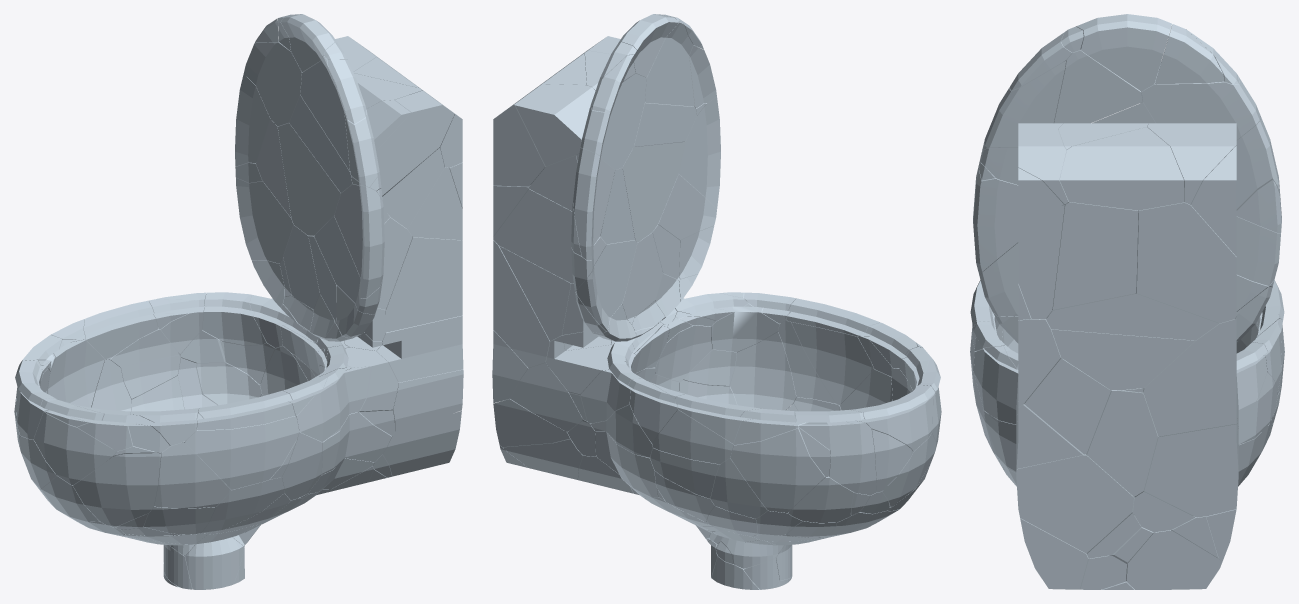
The model's file is Toilet.fbx.
3 views of the same model, side by side, from view 1: azimuth 30°, elevation 25°; view 2: azimuth 150°, elevation 25°; view 3: azimuth 270°, elevation 25° (orthographic). The views are drawn at different scales.
Visible parts, largest first — view 1: Sphere_cell.106, Sphere_cell.049, Sphere_cell.028, Sphere_cell.109, Sphere_cell.136, Sphere_cell.025, Sphere_cell.261, Sphere_cell.190, Sphere_cell.021, Sphere_cell.084, Sphere_cell.016, Sphere_cell.125 (+62 smaller); view 2: Sphere_cell.192, Sphere_cell.197, Sphere_cell.008, Sphere_cell.025, Sphere_cell.064, Sphere_cell.200, Sphere_cell.049, Sphere_cell.084, Sphere_cell.031, Sphere_cell.213, Sphere_cell.021, Sphere_cell.261 (+67 smaller); view 3: Sphere_cell.201, Sphere_cell.181, Sphere_cell.121, Sphere_cell.258, Sphere_cell.064, Sphere_cell.245, Sphere_cell, Sphere_cell.243, Sphere_cell.103, Sphere_cell.063, Sphere_cell.084, Sphere_cell.285 (+43 smaller).
Boxes of the visible parts, box(x1,y1,x2,y2) form: Sphere_cell.106: box(385, 236, 462, 332); Sphere_cell.049: box(185, 416, 299, 489); Sphere_cell.028: box(73, 453, 160, 527); Sphere_cell.109: box(376, 90, 454, 196); Sphere_cell.136: box(376, 315, 463, 382); Sphere_cell.025: box(277, 123, 340, 235); Sphere_cell.261: box(334, 184, 384, 298); Sphere_cell.190: box(154, 442, 231, 508); Sphere_cell.021: box(236, 178, 293, 263); Sphere_cell.084: box(243, 39, 302, 126); Sphere_cell.016: box(34, 411, 116, 485); Sphere_cell.125: box(382, 411, 461, 476); Sphere_cell.192: box(730, 421, 825, 512); Sphere_cell.197: box(493, 189, 573, 283); Sphere_cell.008: box(510, 84, 595, 166); Sphere_cell.025: box(622, 142, 685, 242); Sphere_cell.064: box(493, 240, 550, 367); Sphere_cell.200: box(730, 332, 796, 410); Sphere_cell.049: box(790, 321, 874, 404); Sphere_cell.084: box(580, 73, 646, 169); Sphere_cell.031: box(573, 148, 614, 260); Sphere_cell.213: box(493, 105, 545, 186); Sphere_cell.021: box(575, 240, 637, 331); Sphere_cell.261: box(679, 96, 720, 208); Sphere_cell.201: box(1135, 202, 1236, 323); Sphere_cell.181: box(1059, 127, 1184, 210); Sphere_cell.121: box(1016, 433, 1134, 553); Sphere_cell.258: box(1052, 202, 1138, 310); Sphere_cell.064: box(1143, 319, 1237, 436); Sphere_cell.245: box(1144, 424, 1238, 517); Sphere_cell: box(1051, 329, 1194, 390); Sphere_cell.243: box(1086, 388, 1158, 497); Sphere_cell.103: box(1046, 293, 1219, 340); Sphere_cell.063: box(1076, 14, 1171, 91); Sphere_cell.084: box(1140, 63, 1260, 139); Sphere_cell.285: box(1024, 358, 1110, 454).
Size of the model in its own units: 268 by 347 by 162.
